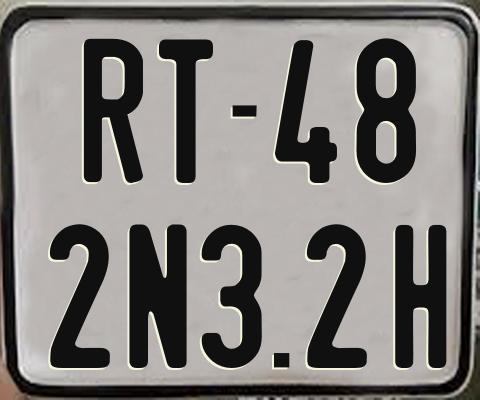2: (306, 224, 369, 374), (47, 224, 108, 370)
3: (200, 225, 263, 374)
4: (272, 37, 336, 180)
8: (353, 37, 415, 188)
H: (392, 223, 450, 366)
N: (128, 223, 188, 368)
R: (84, 38, 149, 186)
T: (157, 36, 213, 185)
